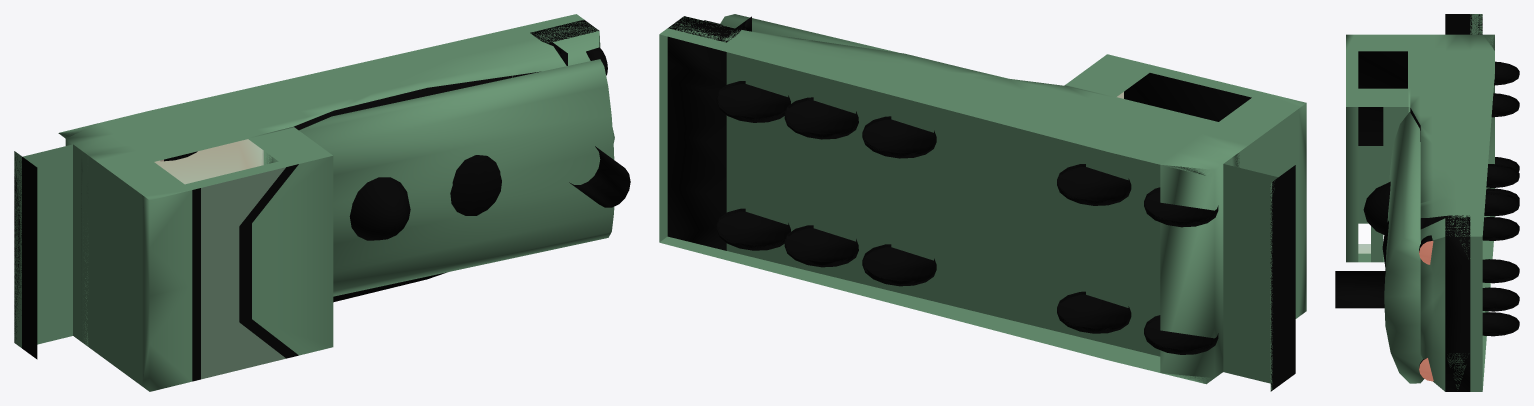
The model's file is asset1.glb.
The picture shows the model from 3 angles, left to right: view 1: azimuth 30°, elevation 25°; view 2: azimuth 150°, elevation 25°; view 3: azimuth 270°, elevation 25°; orthographic projection. The views are drawn at different scales.
Parts seen in each view (by area): view 1: Cube1, Cylinder3, sphere5_copy6, Cube11, sphere5, Cylinder4, Cube1_extract2; view 2: Cube1, Cube1_extract2, Cube11, Cylinder3_copy14, Cylinder3_copy8, Cylinder3_copy9, Cylinder3_copy17, Cylinder3_copy16, Cylinder3_copy15, Cylinder3_copy13, Cylinder3_copy12, Cylinder3_copy11 (+2 smaller); view 3: Cube1, Cylinder3, Cube1_extract2, Cube11, Cylinder4, sphere5_copy6, Cylinder3_copy15, Cylinder3_copy13, Cylinder3_copy9, Cylinder3_copy12, Cylinder3_copy14, Cylinder3_copy8 (+5 smaller).
Part boxes in pixels (x1,y1,x2,y2): Cube1: (14, 14, 614, 391); Cylinder3: (261, 59, 614, 296); sphere5_copy6: (349, 177, 410, 240); Cube11: (154, 139, 263, 184); sphere5: (450, 155, 501, 215); Cylinder4: (569, 146, 630, 207); Cube1_extract2: (530, 19, 599, 65); Cube1: (659, 16, 1306, 391); Cube1_extract2: (667, 16, 751, 250); Cube11: (1117, 73, 1251, 121); Cylinder3_copy14: (784, 97, 858, 139); Cylinder3_copy8: (862, 116, 936, 158); Cylinder3_copy9: (862, 244, 936, 286); Cylinder3_copy17: (1057, 291, 1131, 333); Cylinder3_copy16: (1057, 164, 1131, 205); Cylinder3_copy15: (784, 225, 858, 267); Cylinder3_copy13: (716, 208, 790, 250); Cylinder3_copy12: (716, 81, 790, 122); Cylinder3_copy11: (1144, 315, 1218, 354); Cube1: (1346, 14, 1494, 391); Cylinder3: (1384, 112, 1424, 383); Cube1_extract2: (1420, 215, 1470, 391); Cube11: (1358, 51, 1407, 253); Cylinder4: (1335, 271, 1385, 308); sphere5_copy6: (1363, 181, 1390, 234); Cylinder3_copy15: (1482, 287, 1519, 311); Cylinder3_copy13: (1482, 312, 1519, 336); Cylinder3_copy9: (1482, 259, 1519, 283); Cylinder3_copy12: (1482, 217, 1519, 240); Cylinder3_copy14: (1484, 192, 1519, 216); Cylinder3_copy8: (1486, 164, 1519, 187).
Size of the model in its own units: 1 by 0.3265 by 0.35.
